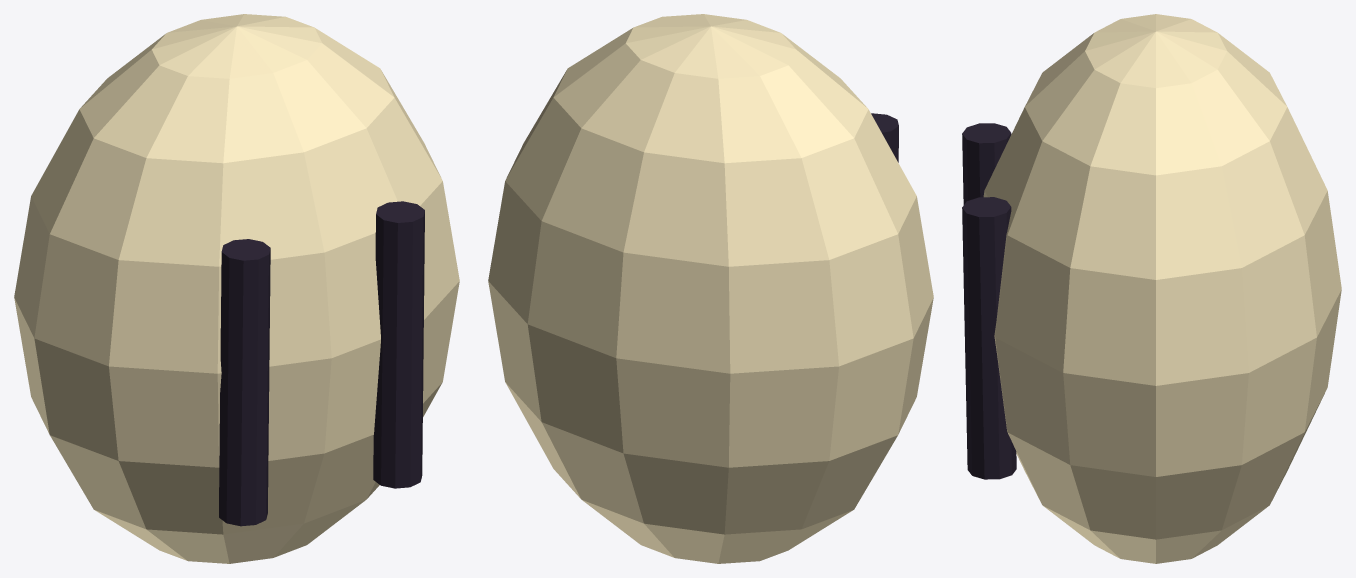
The model's file is seed.glb.
3 views of the same model, side by side, from view 1: azimuth 30°, elevation 25°; view 2: azimuth 150°, elevation 25°; view 3: azimuth 270°, elevation 25° (orthographic).
Visible parts, largest first — view 1: seed, Seed stripe, Seed stripe.001; view 2: seed, Seed stripe; view 3: seed, Seed stripe.001, Seed stripe.
Boxes of the visible parts, bbox=[...] form: seed: bbox=[14, 14, 459, 563]; Seed stripe: bbox=[219, 239, 270, 526]; Seed stripe.001: bbox=[373, 201, 424, 488]; seed: bbox=[488, 14, 933, 563]; Seed stripe: bbox=[871, 113, 898, 162]; seed: bbox=[983, 14, 1341, 563]; Seed stripe.001: bbox=[962, 197, 1016, 479]; Seed stripe: bbox=[962, 123, 1011, 204].
Size of the model in its own units: 0.84 by 1.04 by 0.695.
